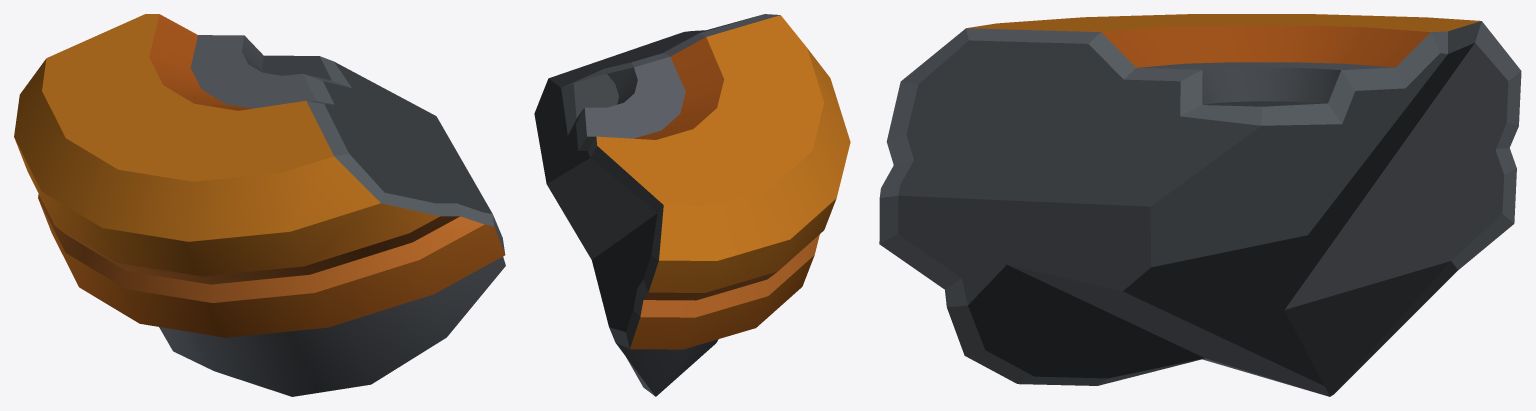
The model's file is SM_Checkpoint_Fragment_04.fbx.
3 views of the same model, side by side, from view 1: azimuth 30°, elevation 25°; view 2: azimuth 150°, elevation 25°; view 3: azimuth 270°, elevation 25° (orthographic). The views are drawn at different scales.
Parts seen in each view (by area): view 1: SM_Checkpoint_Fragment_04; view 2: SM_Checkpoint_Fragment_04; view 3: SM_Checkpoint_Fragment_04.
Boxes of the visible parts, x1=… form: SM_Checkpoint_Fragment_04: x1=14, y1=14, x2=505, y2=396; SM_Checkpoint_Fragment_04: x1=534, y1=14, x2=850, y2=396; SM_Checkpoint_Fragment_04: x1=879, y1=14, x2=1521, y2=396.
Size of the model in its own units: 1.21 by 1.04 by 1.57.
